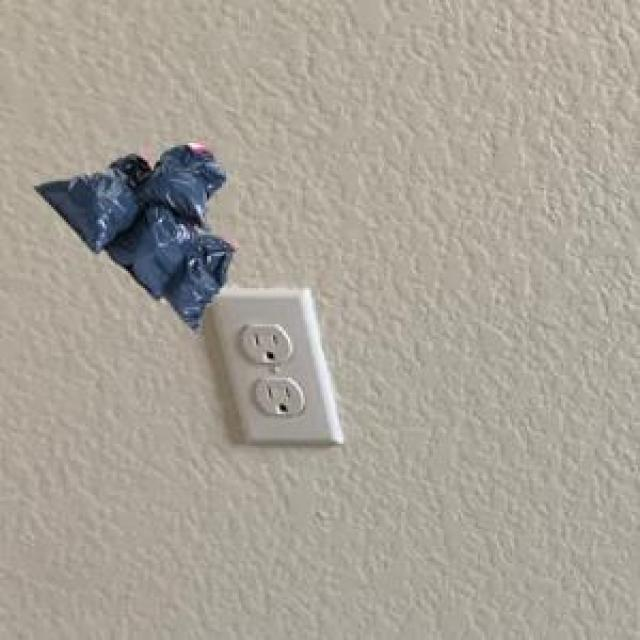waste: (36, 146, 232, 326)
